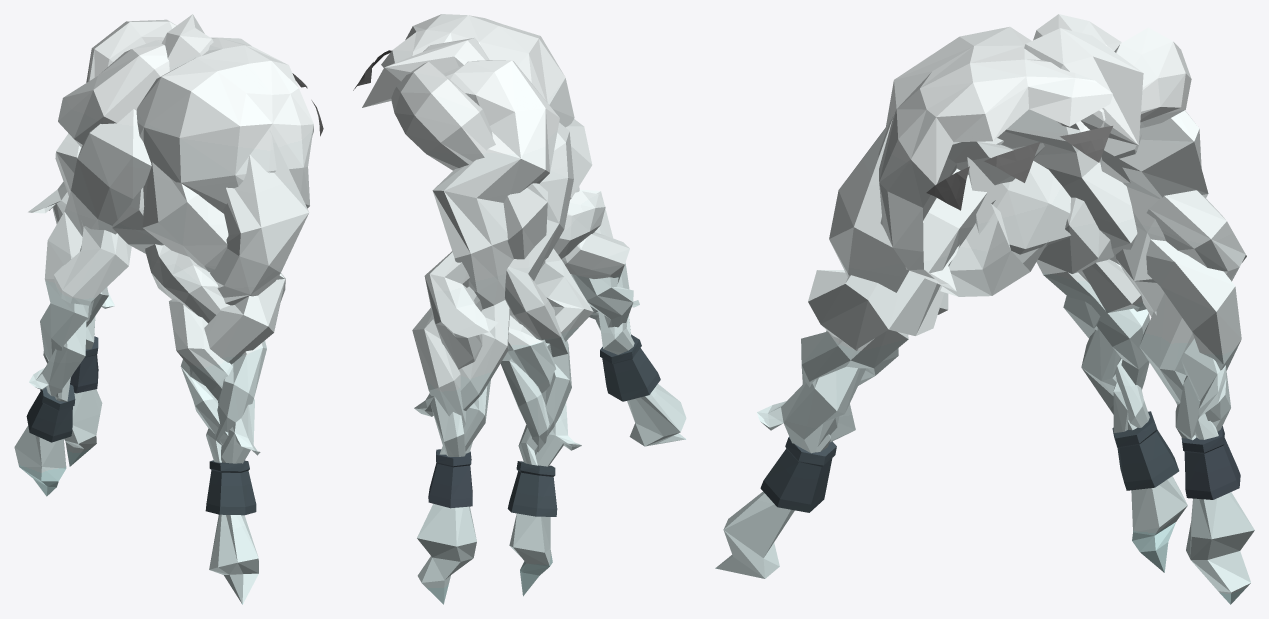
File: CharSkyKid_Hair_AP13LongBraids_01.glb
The picture shows the model from 3 angles, left to right: view 1: azimuth 30°, elevation 25°; view 2: azimuth 150°, elevation 25°; view 3: azimuth 270°, elevation 25°; orthographic projection. The views are drawn at different scales.
Visible parts, largest first — view 1: CharSkyKid_Hair_AP13LongBraids_01; view 2: CharSkyKid_Hair_AP13LongBraids_01; view 3: CharSkyKid_Hair_AP13LongBraids_01.
Part boxes in pixels (x1,y1,x2,y2): CharSkyKid_Hair_AP13LongBraids_01: [14, 14, 323, 604]; CharSkyKid_Hair_AP13LongBraids_01: [353, 14, 686, 604]; CharSkyKid_Hair_AP13LongBraids_01: [715, 14, 1254, 604].
Size of the model in its own units: 3.08 by 5.82 by 4.71.
1 material, 1 textured.
